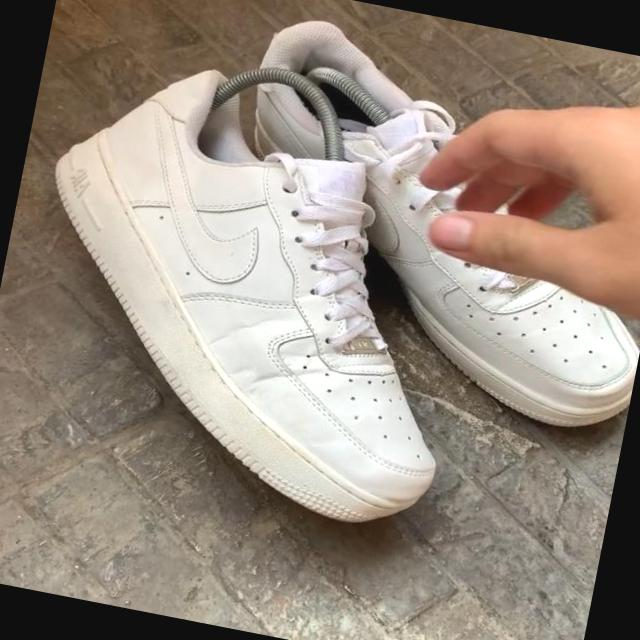nike_fake_airforce: (0, 0, 520, 535), (197, 13, 640, 446)
